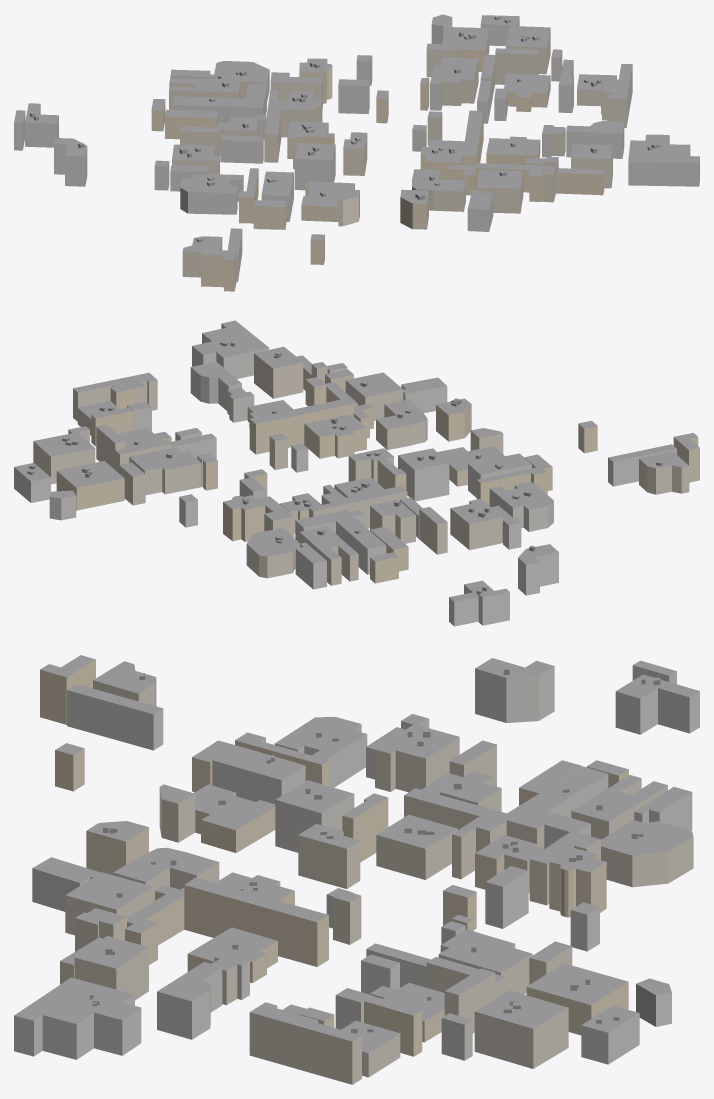
File: building_-3_-7.glb
3 views of the same model, one above another, from view 1: azimuth 30°, elevation 25°; view 2: azimuth 150°, elevation 25°; view 3: azimuth 270°, elevation 25° (orthographic). The views are drawn at different scales.
Visible parts, largest first — view 1: roof, concrete_light, concrete_warm, sandstone; view 2: roof, concrete_warm, concrete_light, sandstone; view 3: roof, concrete_warm, concrete_light, sandstone.
Part boxes in pixels (left/top/right/bottom): roof: left=14, top=14, right=699, bottom=259; concrete_light: left=14, top=17, right=699, bottom=281; concrete_warm: left=169, top=29, right=632, bottom=277; sandstone: left=151, top=30, right=614, bottom=291; roof: left=14, top=320, right=699, bottom=601; concrete_warm: left=33, top=353, right=689, bottom=585; concrete_light: left=14, top=324, right=676, bottom=626; sandstone: left=56, top=368, right=699, bottom=583; roof: left=14, top=655, right=699, bottom=1053; concrete_warm: left=65, top=679, right=693, bottom=1084; concrete_light: left=14, top=665, right=699, bottom=1064; sandstone: left=40, top=659, right=628, bottom=1056.
Size of the model in its own units: 266 by 16.65 by 200.
